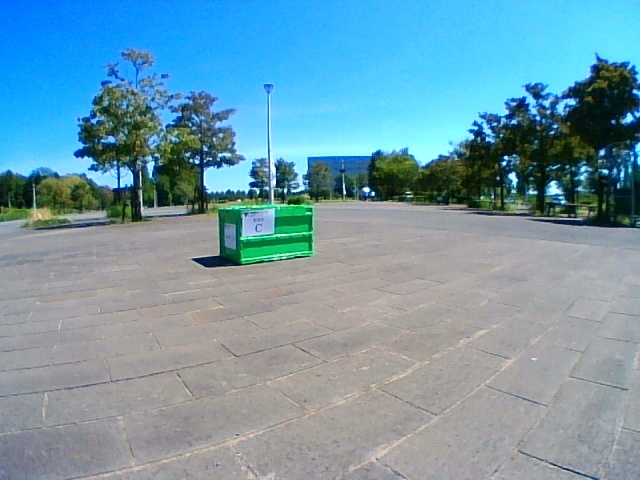green_box: (219, 205, 313, 263)
tag_c: (243, 212, 274, 235)
